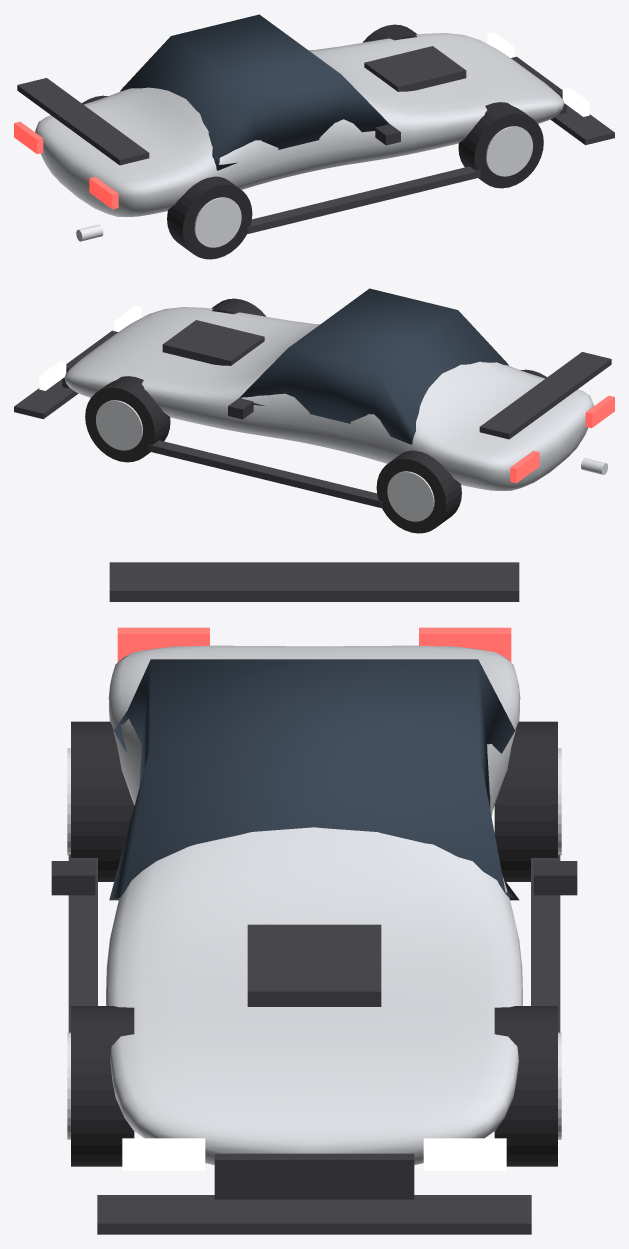
File: car_jdm.glb
3 views of the same model, one above another, from view 1: azimuth 30°, elevation 25°; view 2: azimuth 150°, elevation 25°; view 3: azimuth 270°, elevation 25° (orthographic). The views are drawn at different scales.
Visible parts, largest first — view 1: CarBody, CarGlass, Mod_Wing, Tire_-1.3826_-1, Tire_1.3826_-1, Mod_Skirt_-1, Mod_Hood, Rim_-1.3826_-1, Rim_1.3826_-1, Mod_Splitter, Tire_1.3826_1, TailL_1 (+5 smaller); view 2: CarBody, CarGlass, Mod_Wing, Tire_-1.3826_1, Tire_1.3826_1, Mod_Skirt_1, Mod_Hood, Rim_-1.3826_1, Rim_1.3826_1, Mod_Splitter, Tire_1.3826_-1, TailL_1 (+5 smaller); view 3: CarBody, CarGlass, Mod_Splitter, Mod_Wing, Mod_Hood, Grille, Tire_-1.3826_1, Tire_1.3826_1, Tire_1.3826_-1, Tire_-1.3826_-1, Mod_Skirt_1, Mod_Skirt_-1 (+6 smaller).
Part boxes in pixels (x1,y1,x2,y2): CarBody: (35, 33, 564, 216); CarGlass: (120, 14, 389, 170); Mod_Wing: (17, 78, 149, 165); Tire_-1.3826_-1: (167, 176, 252, 259); Tire_1.3826_-1: (458, 102, 543, 188); Mod_Skirt_-1: (246, 166, 480, 233); Mod_Hood: (364, 46, 466, 91); Rim_-1.3826_-1: (194, 197, 241, 247); Rim_1.3826_-1: (486, 126, 532, 176); Mod_Splitter: (550, 105, 614, 145); Tire_1.3826_1: (363, 24, 417, 42); TailL_1: (14, 121, 43, 154); CarBody: (64, 307, 593, 490); CarGlass: (239, 288, 508, 444); Mod_Wing: (479, 352, 611, 439); Tire_-1.3826_1: (376, 450, 461, 533); Tire_1.3826_1: (85, 376, 170, 462); Mod_Skirt_1: (148, 440, 382, 507); Mod_Hood: (162, 320, 264, 365); Rim_-1.3826_1: (387, 471, 434, 521); Rim_1.3826_1: (96, 400, 142, 450); Mod_Splitter: (14, 379, 78, 419); Tire_1.3826_-1: (211, 298, 265, 316); TailL_1: (510, 450, 539, 483); CarBody: (106, 645, 522, 1164); CarGlass: (109, 659, 519, 900); Mod_Splitter: (97, 1195, 531, 1234); Mod_Wing: (109, 562, 519, 601); Mod_Hood: (247, 924, 381, 1006); Grille: (214, 1153, 414, 1199); Tire_-1.3826_1: (494, 721, 557, 881); Tire_1.3826_1: (494, 1006, 557, 1166); Tire_1.3826_-1: (71, 1006, 134, 1166); Tire_-1.3826_-1: (71, 721, 134, 881); Mod_Skirt_1: (531, 854, 560, 1032); Mod_Skirt_-1: (68, 854, 97, 1032).
Bounding box in the file's own units: 4.83 × 1.22 × 2.16.
